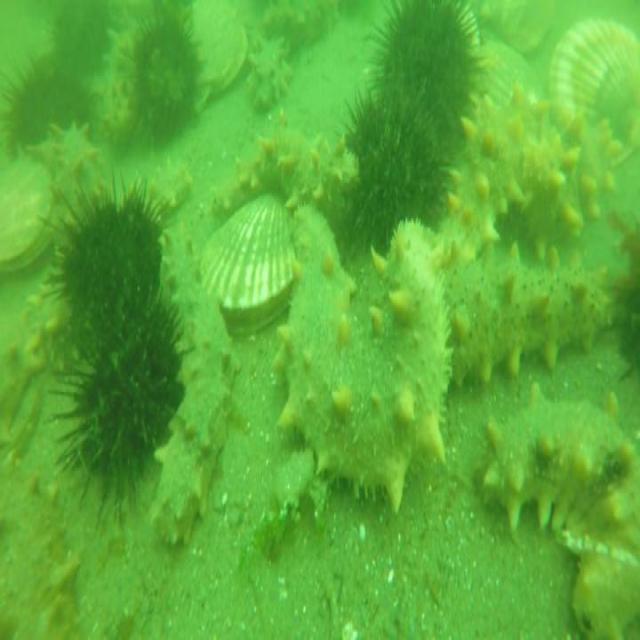echinus: (50, 294, 189, 526), (36, 174, 175, 352), (360, 0, 488, 161), (339, 76, 454, 251), (1, 49, 93, 166), (125, 6, 200, 144), (601, 202, 640, 372), (44, 0, 116, 84)
holothurian: (281, 198, 452, 507), (479, 377, 640, 640), (428, 79, 625, 267), (158, 229, 240, 544), (442, 246, 620, 382), (2, 338, 81, 640), (210, 119, 356, 232), (36, 118, 111, 254), (99, 2, 145, 152), (248, 25, 295, 109)
scallop: (547, 14, 640, 169), (198, 193, 295, 341), (0, 151, 61, 279), (190, 0, 248, 100), (462, 36, 538, 109)
